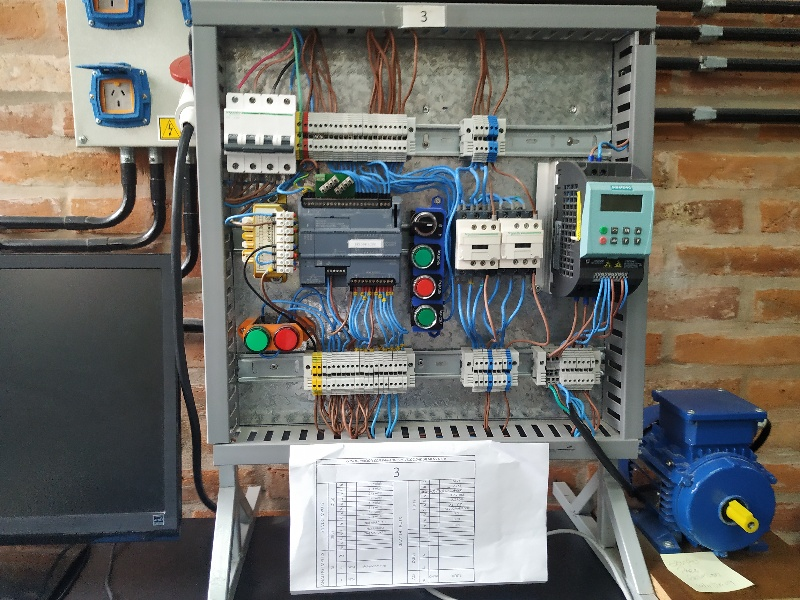Tablero 3: (211, 20, 652, 450)
